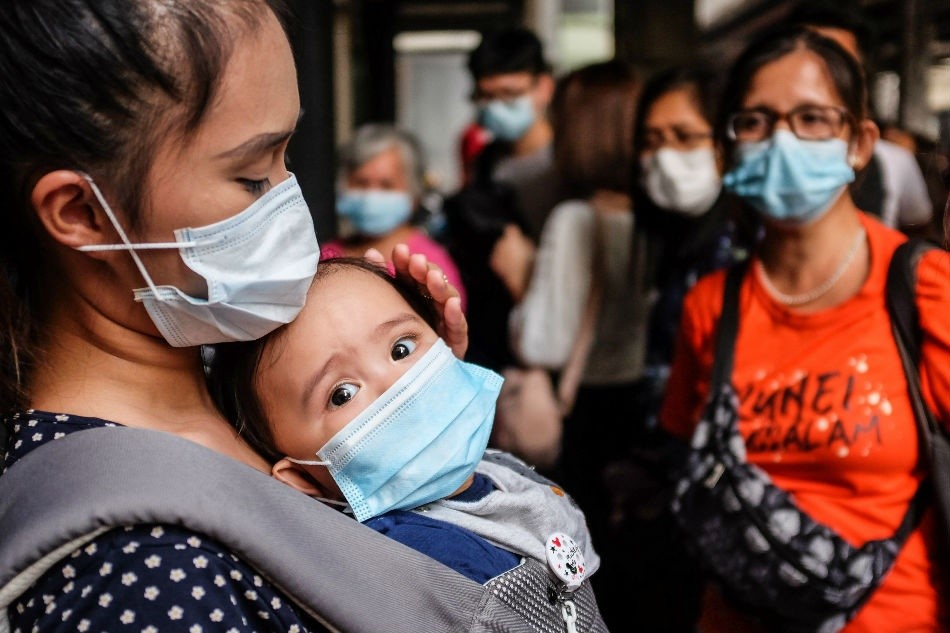face_with_mask: (0, 6, 327, 352), (221, 256, 450, 535), (709, 36, 871, 235), (636, 67, 716, 221), (344, 125, 427, 244), (470, 32, 553, 138)
